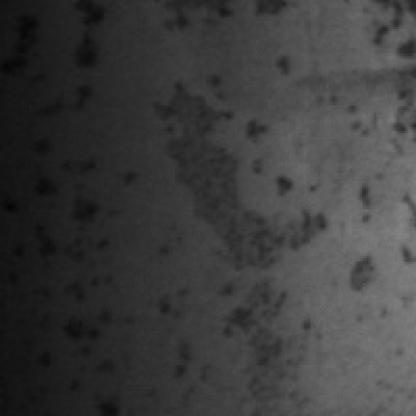pitted_surface: (6, 81, 164, 410), (154, 40, 326, 268), (162, 256, 330, 396), (346, 0, 416, 314)
